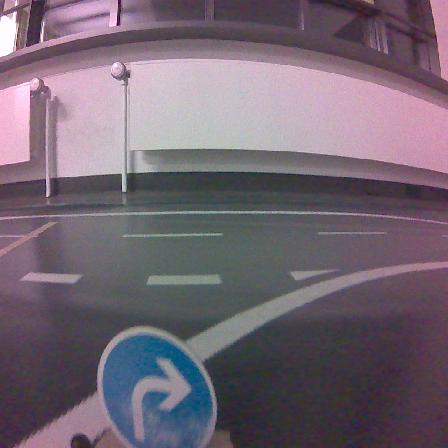RIGHT_TURN: (98, 327, 216, 447)
